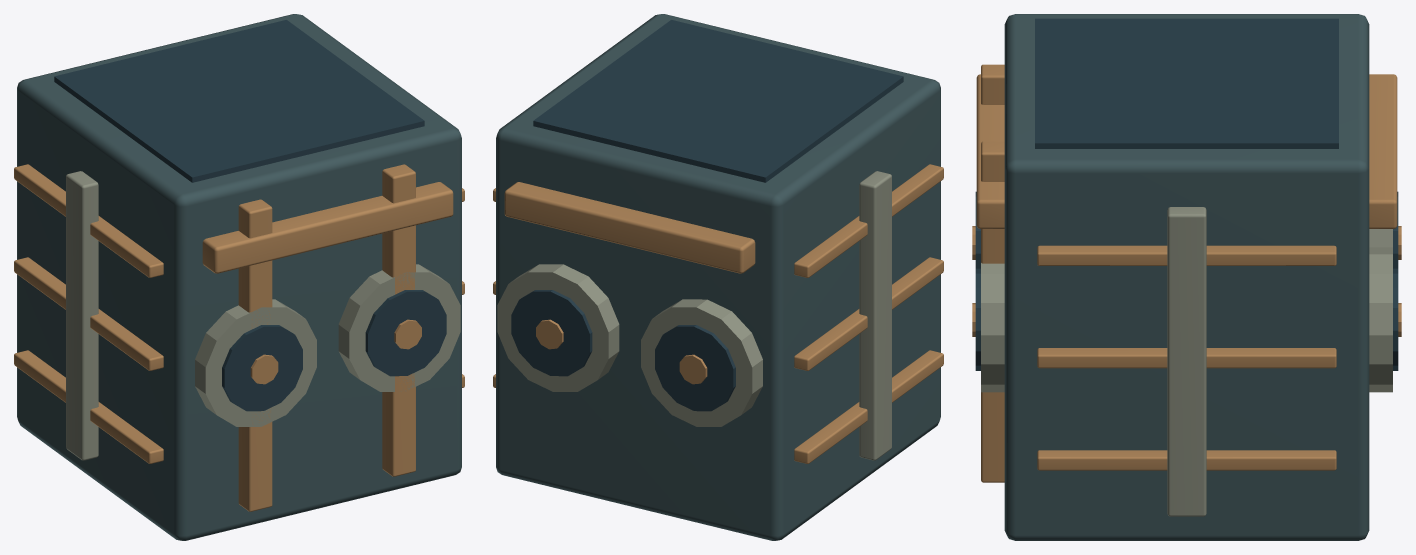
Rendered from pump-shaft-1.glb.
3 views of the same model, side by side, from view 1: azimuth 30°, elevation 25°; view 2: azimuth 150°, elevation 25°; view 3: azimuth 270°, elevation 25° (orthographic). The views are drawn at different scales.
Parts seen in each view (by area): view 1: pump_0, pump_2, pump_3, pump_1; view 2: pump_0, pump_2, pump_1, pump_3; view 3: pump_0, pump_2, pump_3, pump_1.
Boxes of the visible parts, box(x1,y1,x2,y2) form: pump_0: box(17, 14, 461, 540); pump_2: box(54, 20, 446, 411); pump_3: box(14, 164, 464, 511); pump_1: box(66, 171, 460, 460); pump_0: box(496, 14, 940, 540); pump_2: box(511, 20, 903, 411); pump_1: box(497, 171, 891, 460); pump_3: box(493, 164, 943, 463); pump_0: box(1004, 14, 1369, 540); pump_2: box(975, 18, 1398, 370); pump_3: box(972, 64, 1401, 482); pump_1: box(981, 207, 1392, 516).
Bounding box in the file's own units: 0.97 × 1 × 0.99.
